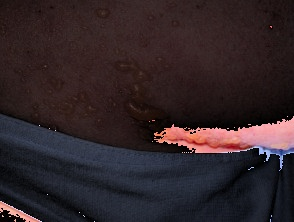SJS-TEN: (0, 11, 294, 183), (89, 3, 114, 24)
